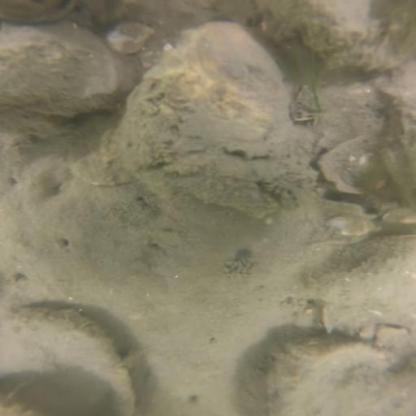Oyster-Closed: (108, 18, 307, 224), (0, 304, 143, 416), (260, 333, 416, 416), (5, 16, 121, 119), (259, 0, 416, 74), (0, 0, 78, 24)
